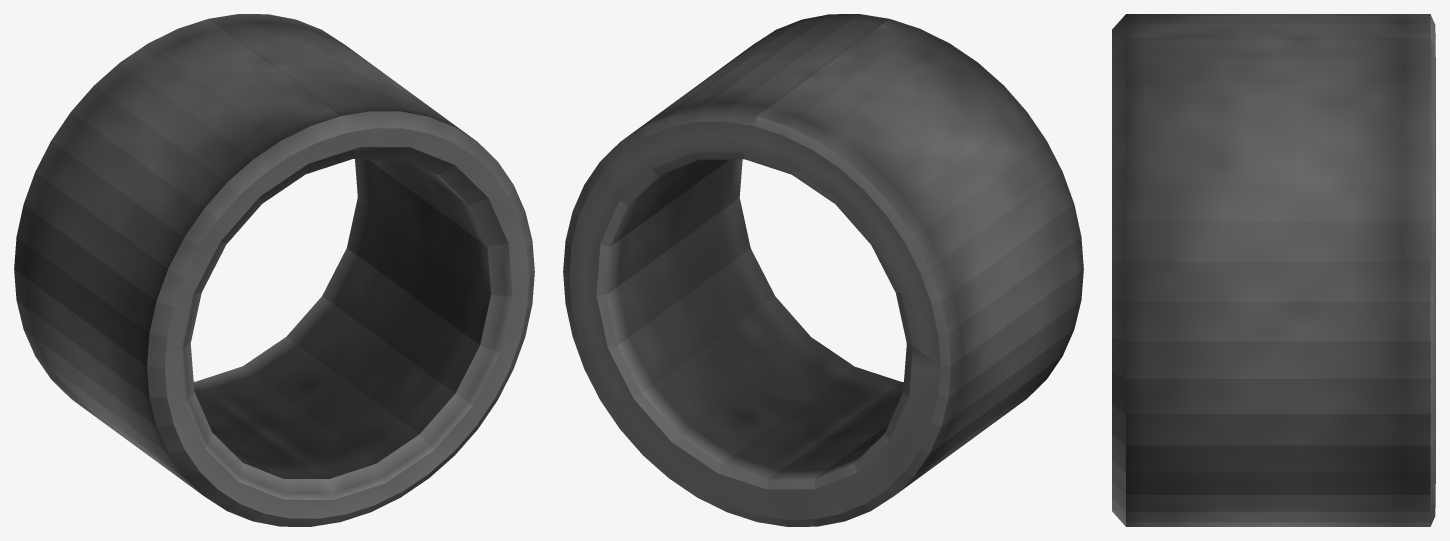
The picture shows the model from 3 angles, left to right: view 1: azimuth 30°, elevation 25°; view 2: azimuth 150°, elevation 25°; view 3: azimuth 270°, elevation 25°; orthographic projection. The views are drawn at different scales.
Visible parts, largest first — view 1: TW_5a6b592c8dc32e00094b97bf_PZ_Import; view 2: TW_5a6b592c8dc32e00094b97bf_PZ_Import; view 3: TW_5a6b592c8dc32e00094b97bf_PZ_Import.
Boxes of the visible parts, <box> form: TW_5a6b592c8dc32e00094b97bf_PZ_Import: <box>14,14,534,526</box>; TW_5a6b592c8dc32e00094b97bf_PZ_Import: <box>563,14,1083,526</box>; TW_5a6b592c8dc32e00094b97bf_PZ_Import: <box>1112,14,1435,526</box>.
Size of the model in its own units: 0.00937 by 0.00591 by 0.00937.
Materials: 1 (1 with a texture image).
